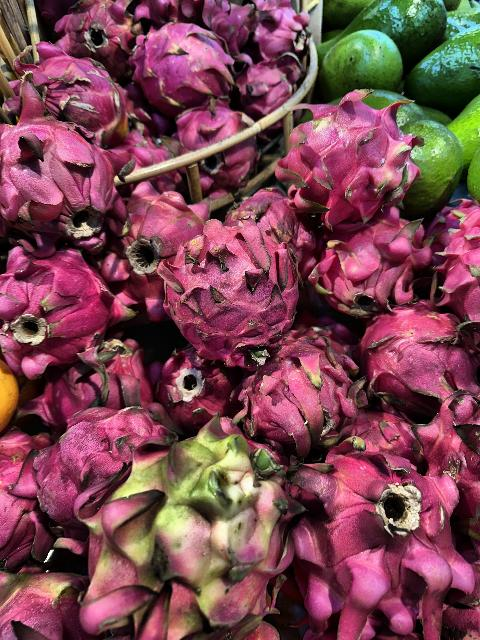buah-naga-belum-matang: (82, 432, 298, 634)
buah-naga-matang: (284, 416, 472, 632), (150, 216, 304, 360), (0, 240, 134, 376), (0, 114, 128, 252), (34, 406, 176, 518), (278, 96, 414, 210), (235, 323, 351, 449), (354, 299, 480, 409), (7, 37, 131, 146), (312, 202, 422, 310), (112, 188, 204, 304), (46, 345, 154, 427), (0, 426, 56, 580), (127, 25, 235, 97), (60, 0, 146, 68)
